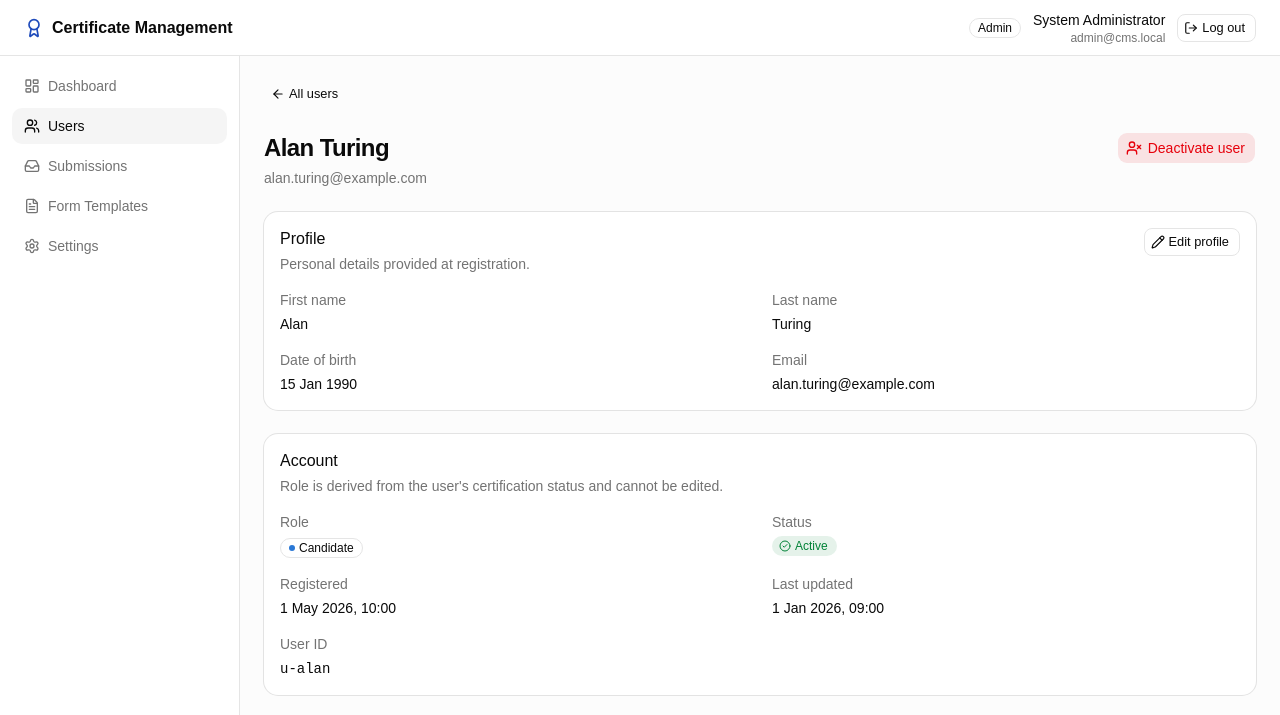
Test: user details › rejects the email ADA@Example.com
Click the button "Edit profile" at (1192, 242), box [1144,228,1240,256]
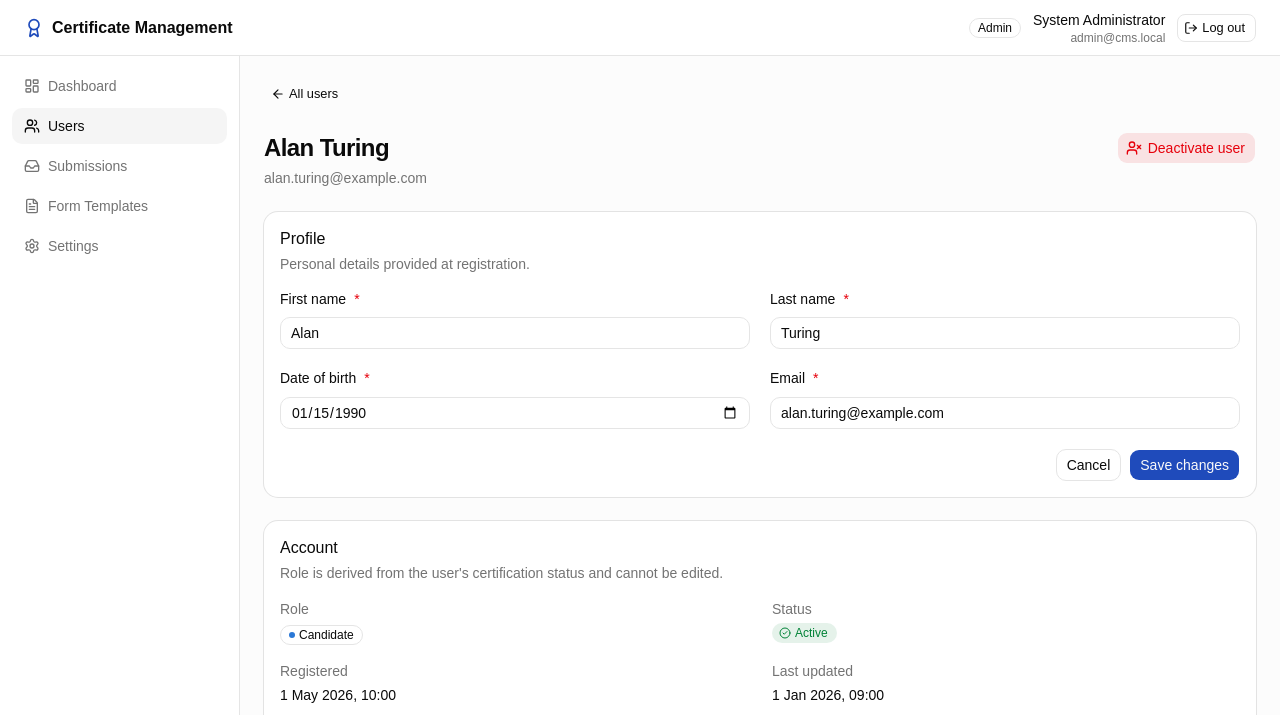
Replace the text in the field labelled "Email *" with "ADA@Example.com" at (1005, 412), box [770,396,1240,428]
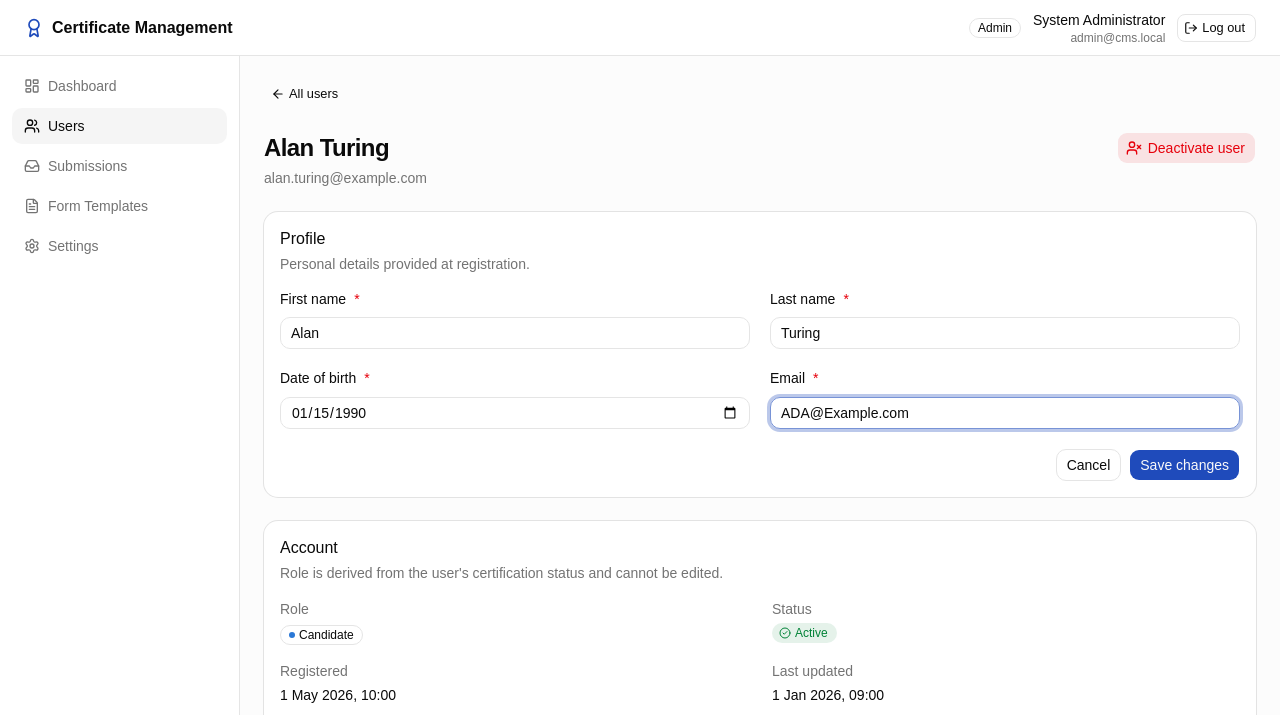
Click the button "Save changes" at (1185, 464), box [1129,448,1240,480]
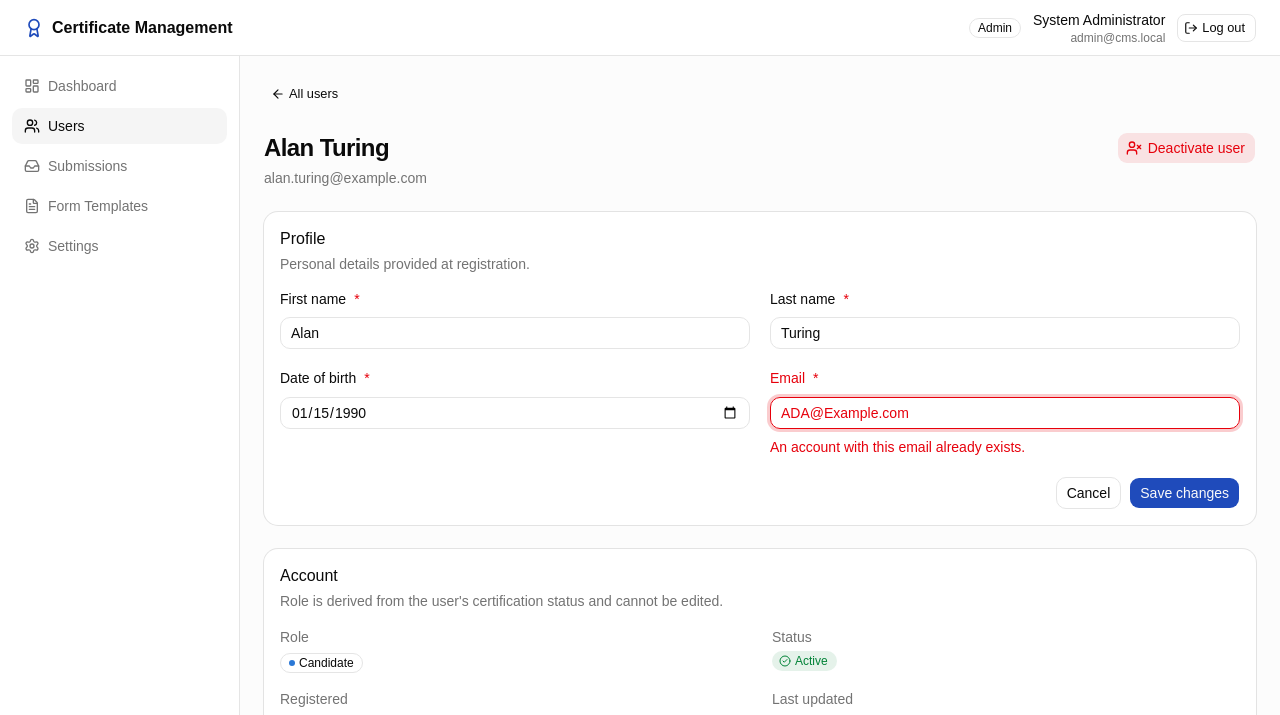
Expected: the text "alan.turing@example.com" is shown, [264,168,427,188]
Expected: the text "An account with this email already exists." is shown, [770,438,1025,454]
